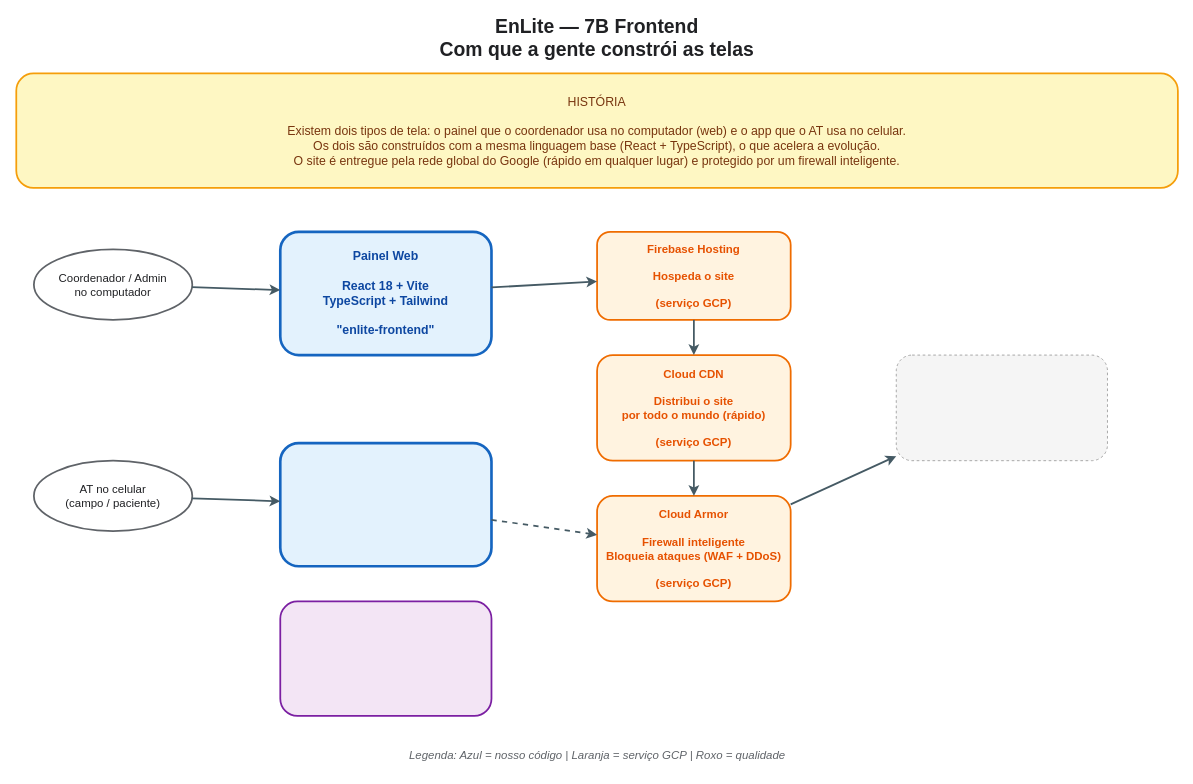
This 1193x784 diagram has some shape labels left out. Here are the shapes that lost their labels. From the top down, the box of each, then its label:
(895, 354, 1107, 461): Vai para o Backend (ver Cena 7C)
(279, 441, 492, 567): App Mobile React Native + Expo TypeScript (check-in GPS, relatórios)
(279, 600, 492, 716): Testes visuais Playwright (screenshots automatizados) Evita regressões
